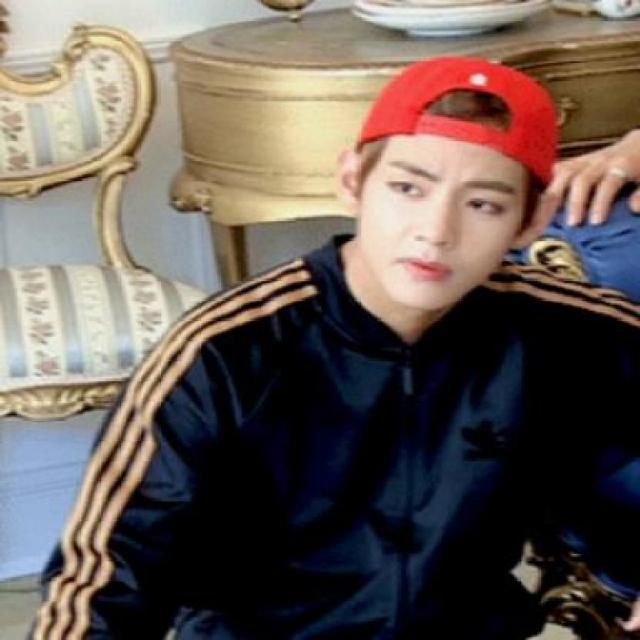hat: (352, 58, 560, 187)
